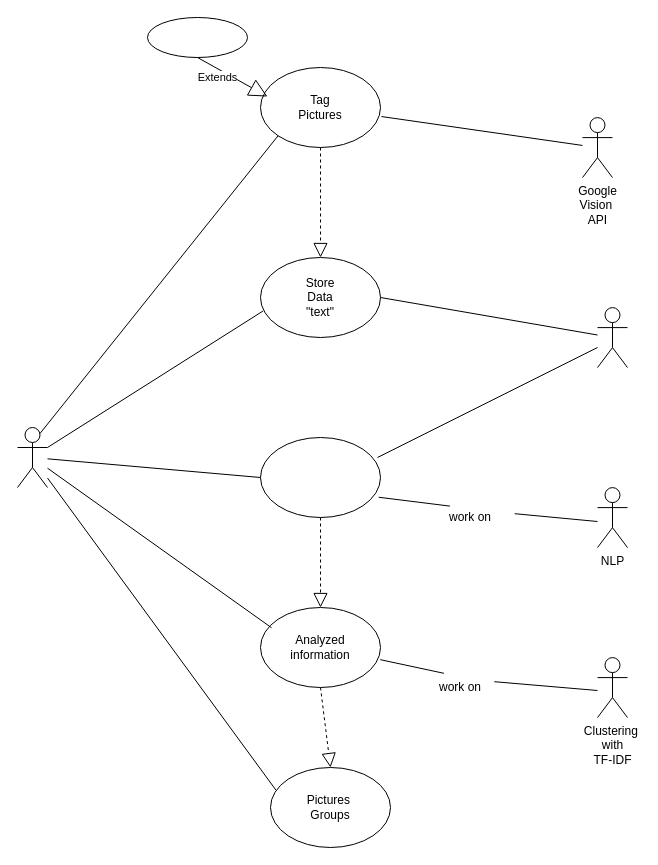
This 658x865 diagram has some shape labels left out. The shapes that lost their labels are listed below. From the top down, each one's centre as x and y in pixels, then its label:
[197,37]: Labels
[612,337]: Elastic Search
[32,457]: User
[320,477]: Get Text "meta-data"
